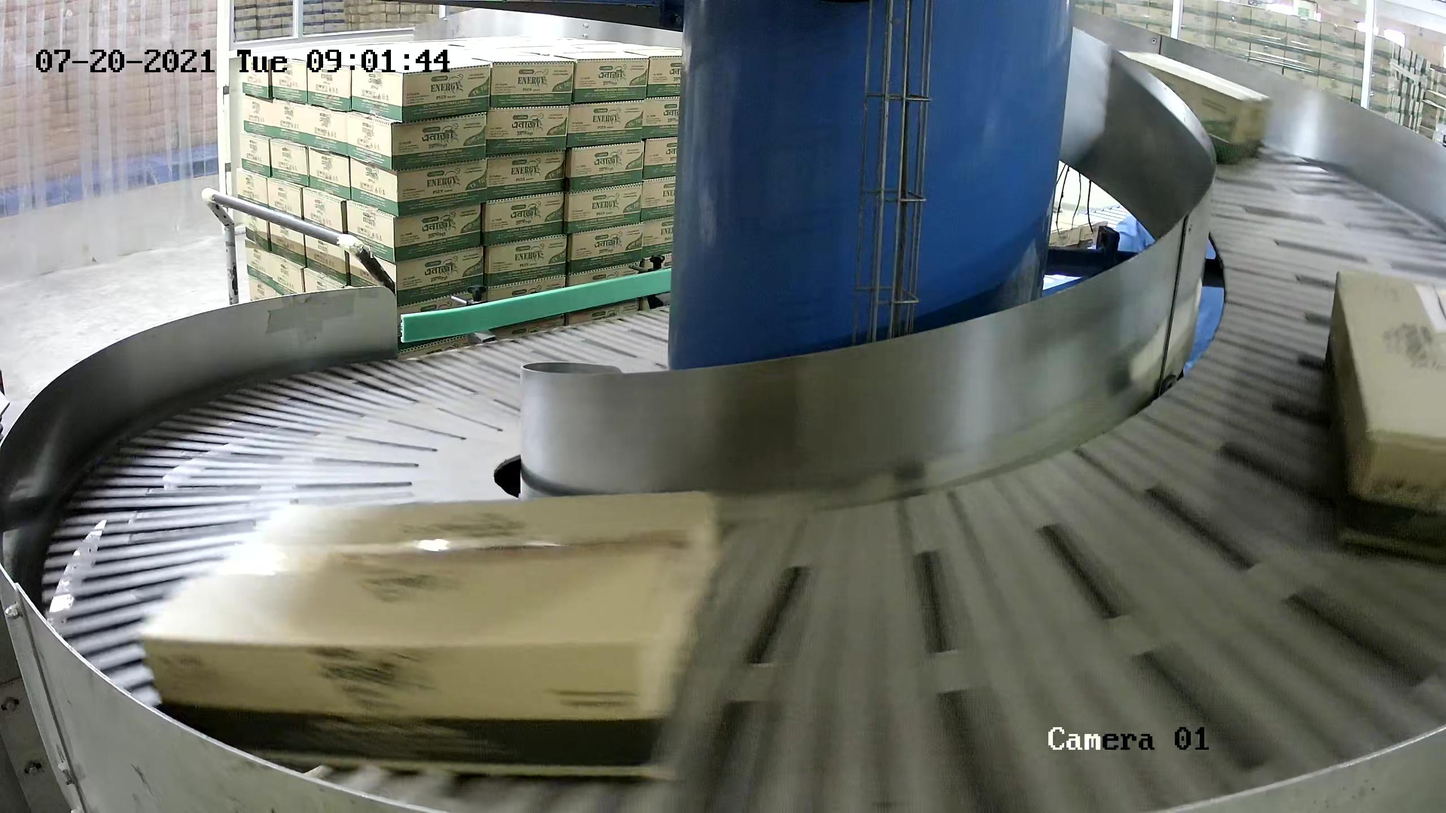Box: (135, 488, 721, 778), (1325, 267, 1446, 562), (1115, 49, 1275, 165)
